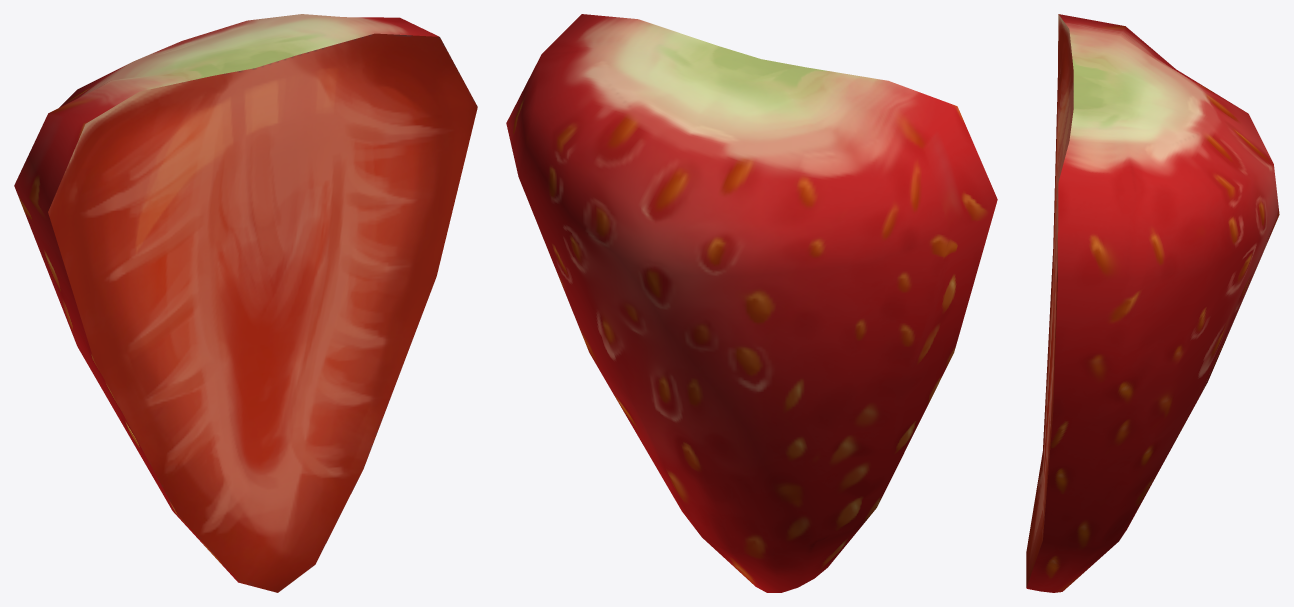
Rendered from strawberryhalf.fbx.
3 views of the same model, side by side, from view 1: azimuth 30°, elevation 25°; view 2: azimuth 150°, elevation 25°; view 3: azimuth 270°, elevation 25° (orthographic). The views are drawn at different scales.
Parts seen in each view (by area): view 1: strawberryhalf; view 2: strawberryhalf; view 3: strawberryhalf.
Boxes of the visible parts, x1,y1,x2,y2 form: strawberryhalf: (14, 14, 477, 592); strawberryhalf: (506, 14, 997, 592); strawberryhalf: (1026, 14, 1279, 592).
Size of the model in its own units: 6.08 by 6.95 by 3.16.
